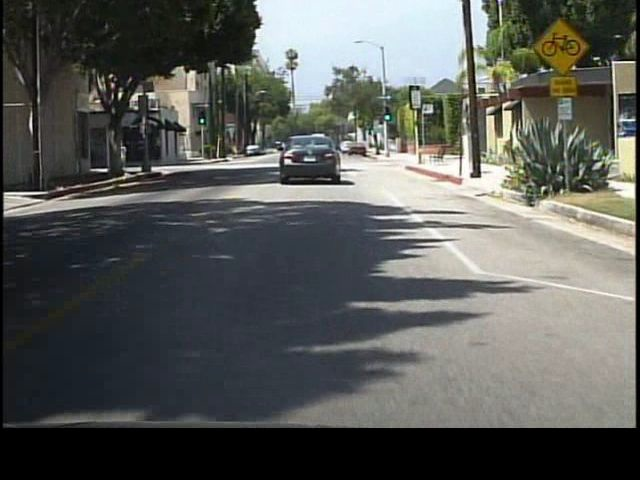person: (119, 137, 132, 173)
